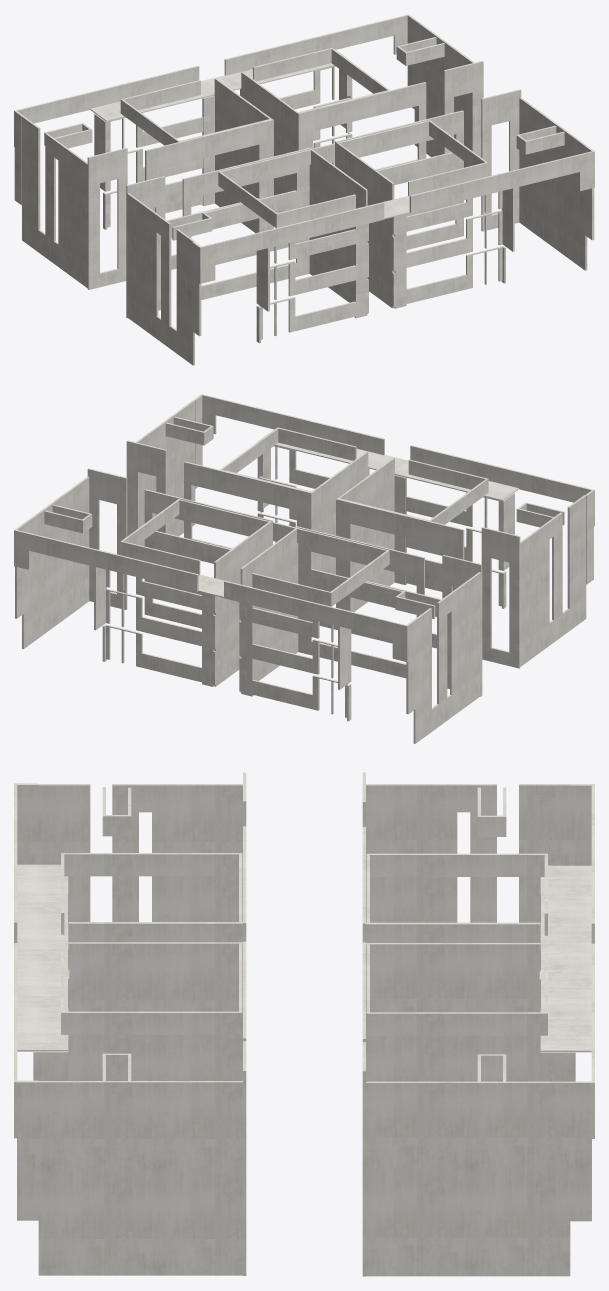
File: edificio paredes final.fbx
3 views of the same model, one above another, from view 1: azimuth 30°, elevation 25°; view 2: azimuth 150°, elevation 25°; view 3: azimuth 270°, elevation 25° (orthographic). The views are drawn at different scales.
Parts seen in each view (by area): view 1: Layer:3D MUROS011, Line1407; view 2: Line1407, Layer:3D MUROS011; view 3: Line1407, Layer:3D MUROS011.
Boxes of the visible parts, x1,y1,x2,y2 form: Layer:3D MUROS011: [126, 89, 594, 365]; Line1407: [14, 14, 483, 289]; Line1407: [14, 468, 482, 743]; Layer:3D MUROS011: [126, 394, 594, 668]; Line1407: [362, 772, 594, 1276]; Layer:3D MUROS011: [14, 772, 246, 1275].
Bounding box in the file's own units: 32.08 × 10.23 × 26.28.
Materials: 1 (1 with a texture image).
